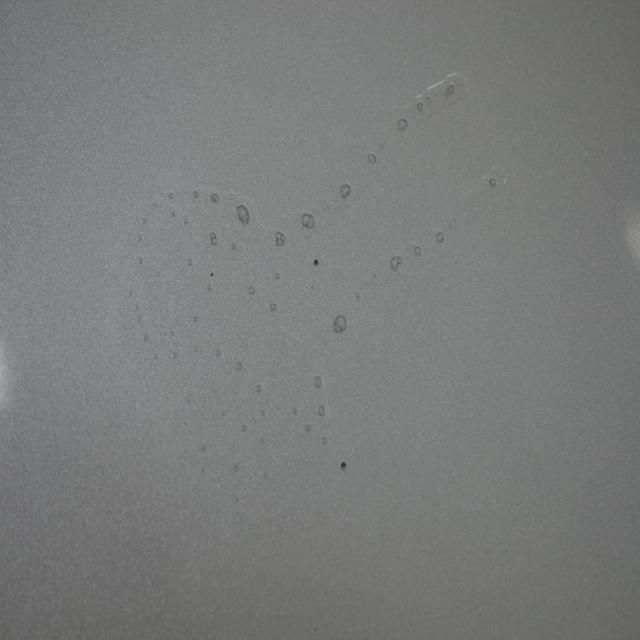dirt: (340, 458, 348, 473), (312, 254, 318, 270)
runs: (114, 74, 511, 509)
